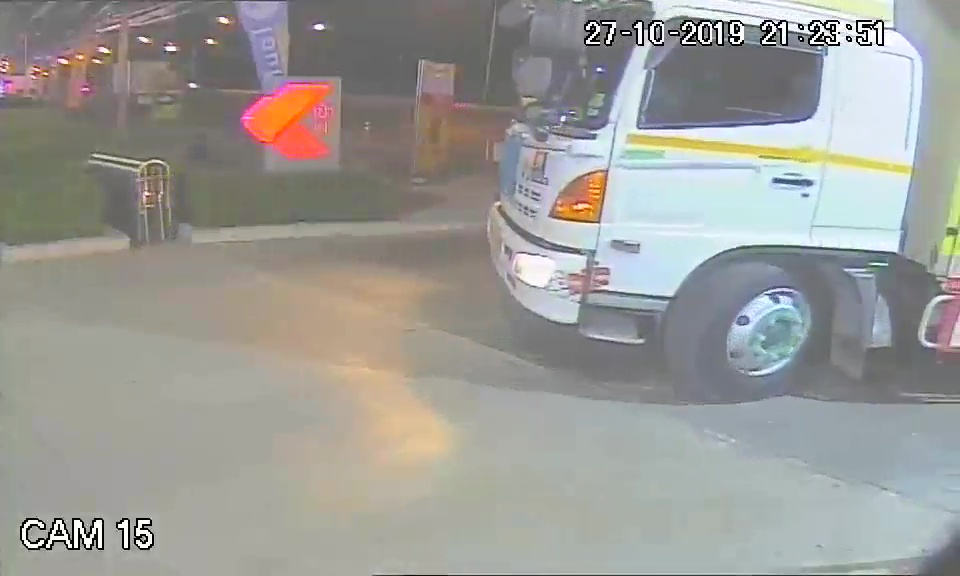truck: (493, 4, 907, 416)
